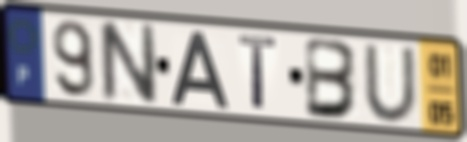9: (49, 18, 97, 100)
A: (168, 28, 232, 111)
B: (304, 34, 361, 122)
N: (95, 18, 160, 107)
T: (236, 32, 281, 114)
U: (360, 43, 421, 126)
